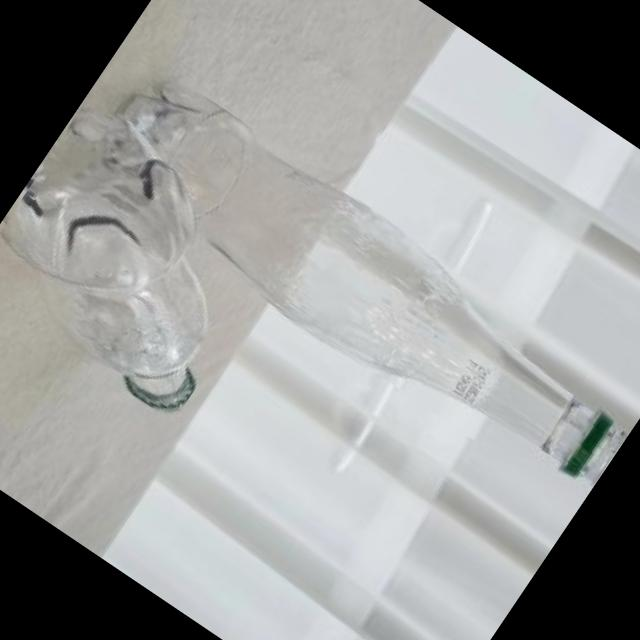plastic bottle: (73, 59, 640, 511), (0, 99, 294, 422)
